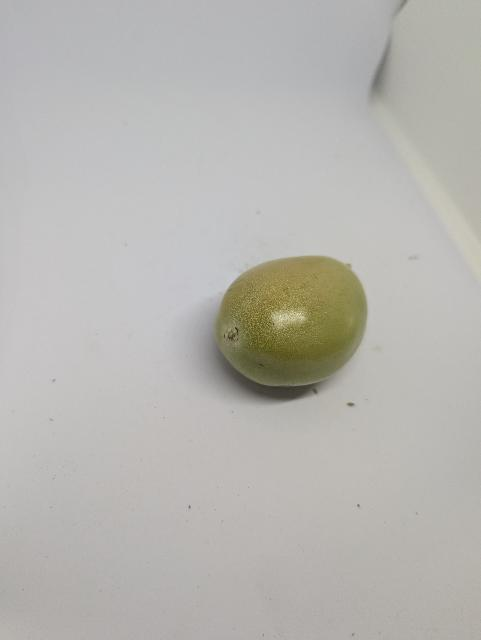green: (215, 254, 372, 390)
